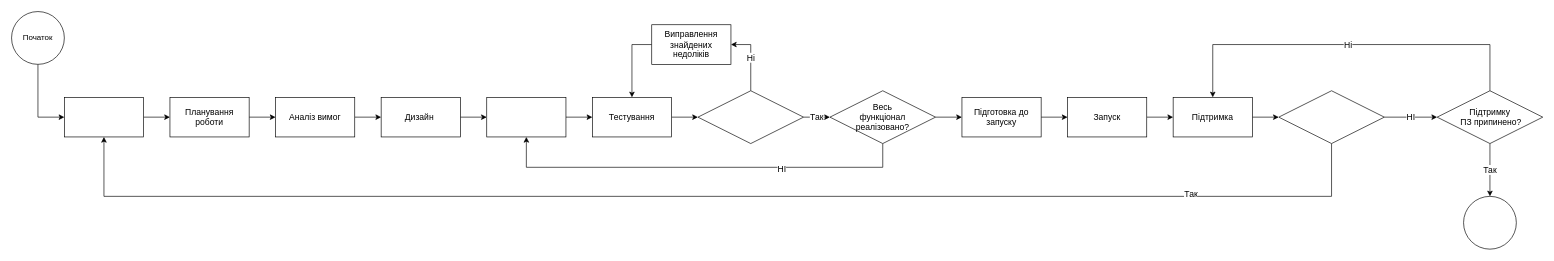
Image size: 1554x261. Some labels were removed from this diagram. Here are the shapes that lost their labels. From the top down, the centre of each, then its label:
At point 104,117: "Консультація з клієнтом".
At point 526,117: "Розробка та провадження функціоналу".
At point 750,117: "Результати тестування позитивні?".
At point 1331,117: "Необхідне впровадження нових функцій?".
At point 1489,222: "Кінець".
